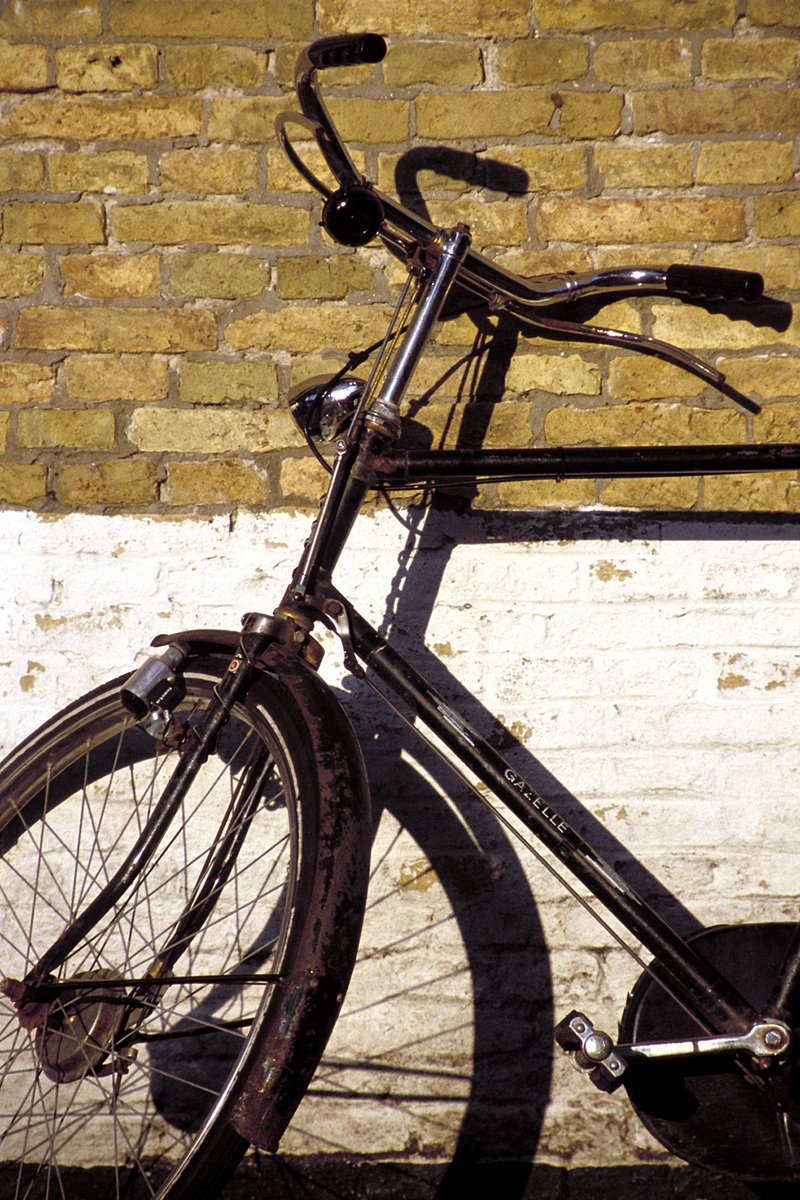Bicycle: (2, 3, 782, 1172)
